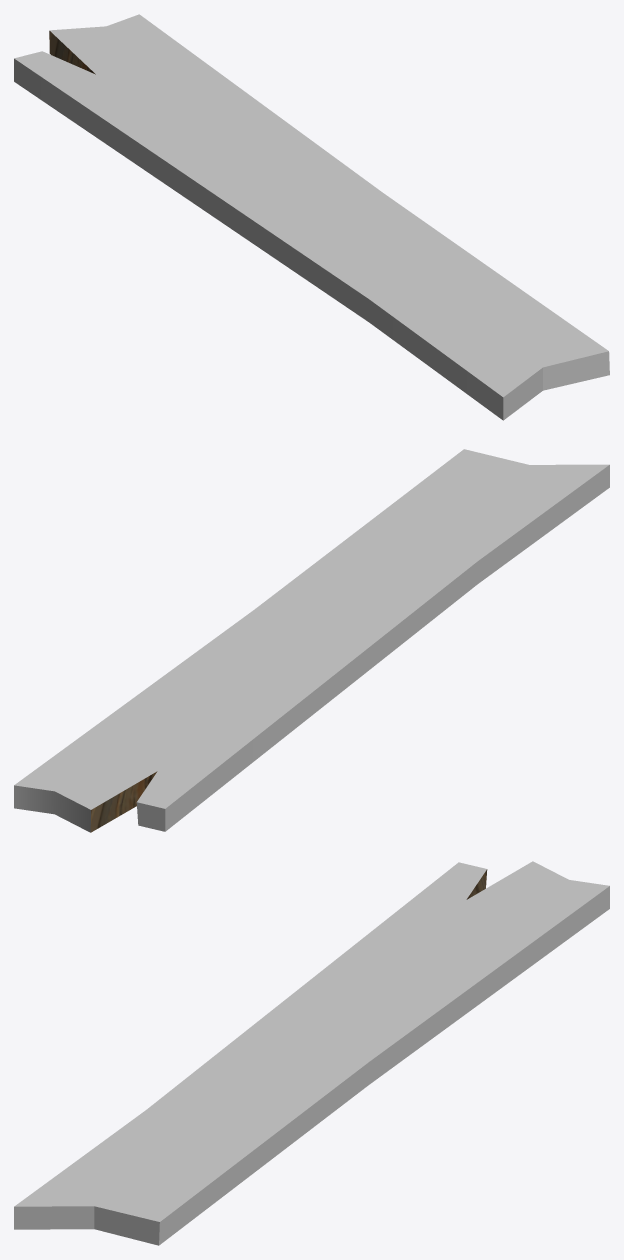
The model's file is lower_city_wood_plank_03.fbx.
3 renders of one model, top to bottom at view 1: azimuth 30°, elevation 25°; view 2: azimuth 150°, elevation 25°; view 3: azimuth 330°, elevation 25°, orthographic.
Visible parts, largest first — view 1: lower_city_wood_plank_03; view 2: lower_city_wood_plank_03; view 3: lower_city_wood_plank_03.
Boxes of the visible parts, x1,y1,x2,y2 form: lower_city_wood_plank_03: (14, 14, 609, 420); lower_city_wood_plank_03: (14, 449, 609, 832); lower_city_wood_plank_03: (14, 861, 609, 1245).
Size of the model in its own units: 0.4727 by 0.0718 by 2.74.
